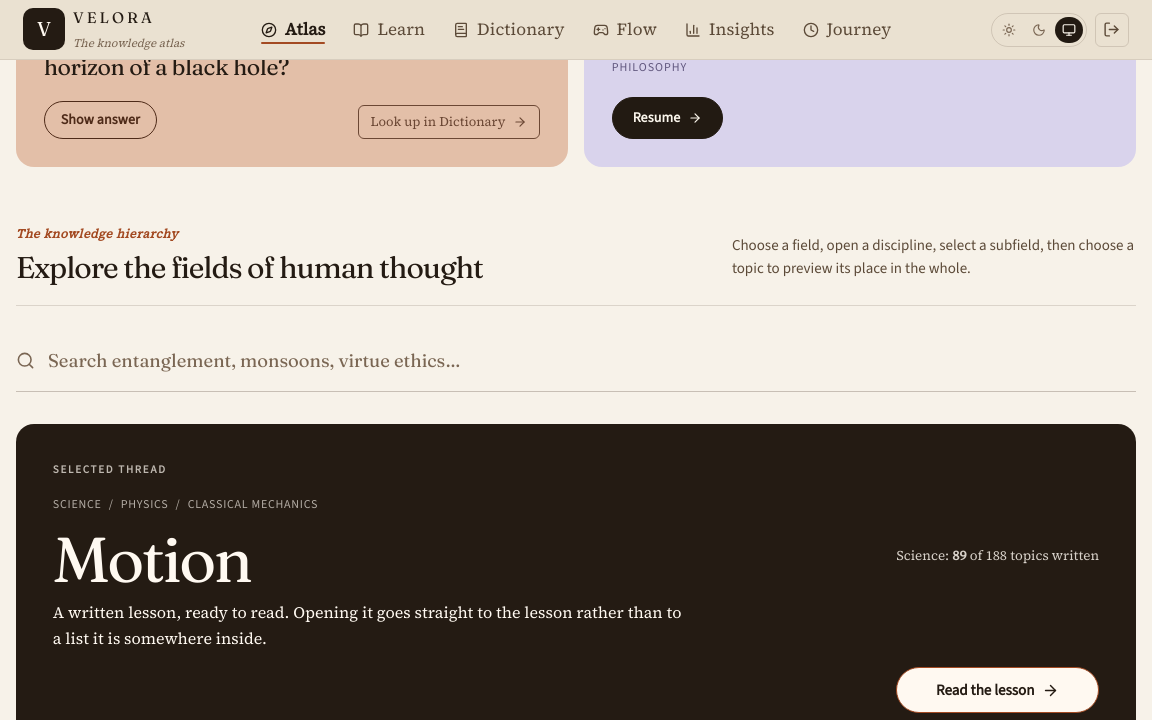
editorial knowledge atlas › searches across fields and reveals the selected hierarchy
(page scrolled)
In the search field named "Search the knowledge atlas": (576, 360) 16,330 -> 1136,391, type "Monsoons"
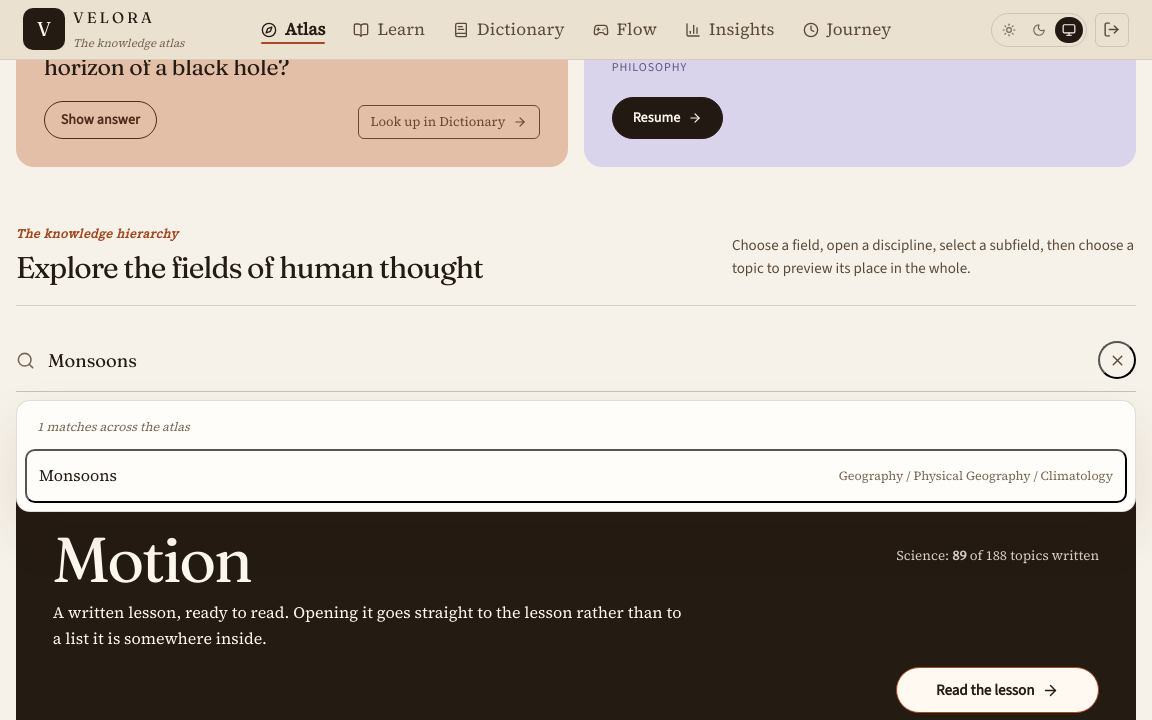
Click the button "Monsoons Geography / Physical Geography / Climatology": (78, 475) 25,449 -> 1127,503
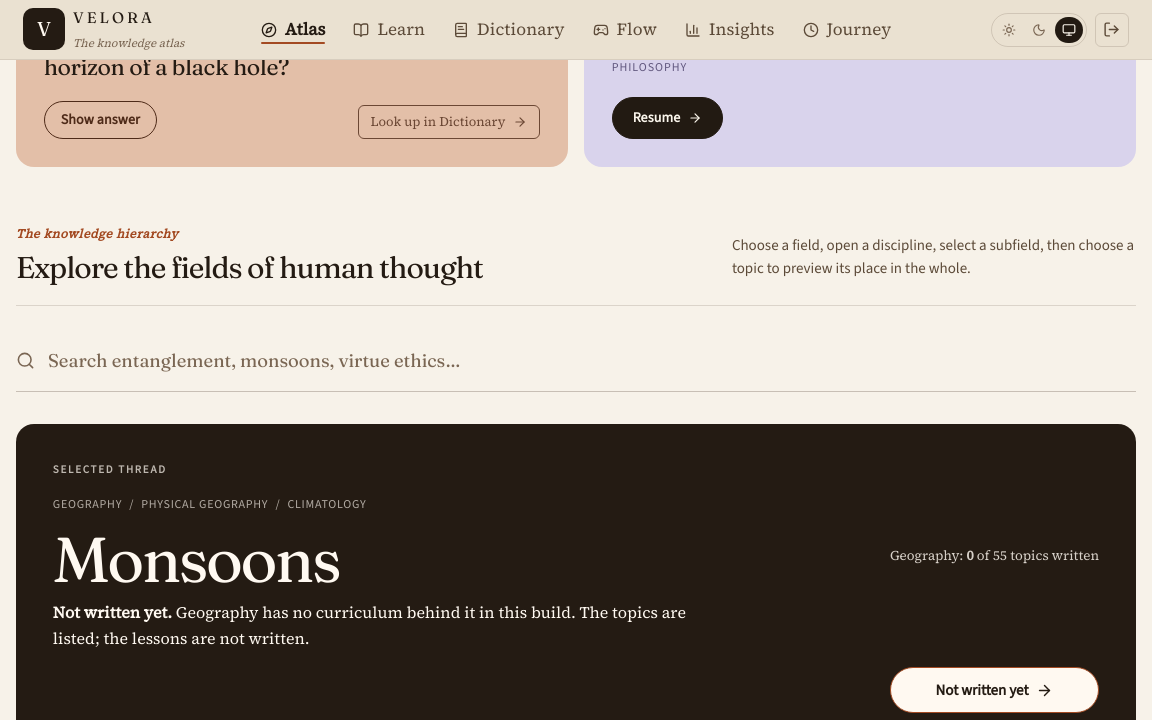
Expected: the heading "Monsoons" is shown, 53,520 -> 339,598
